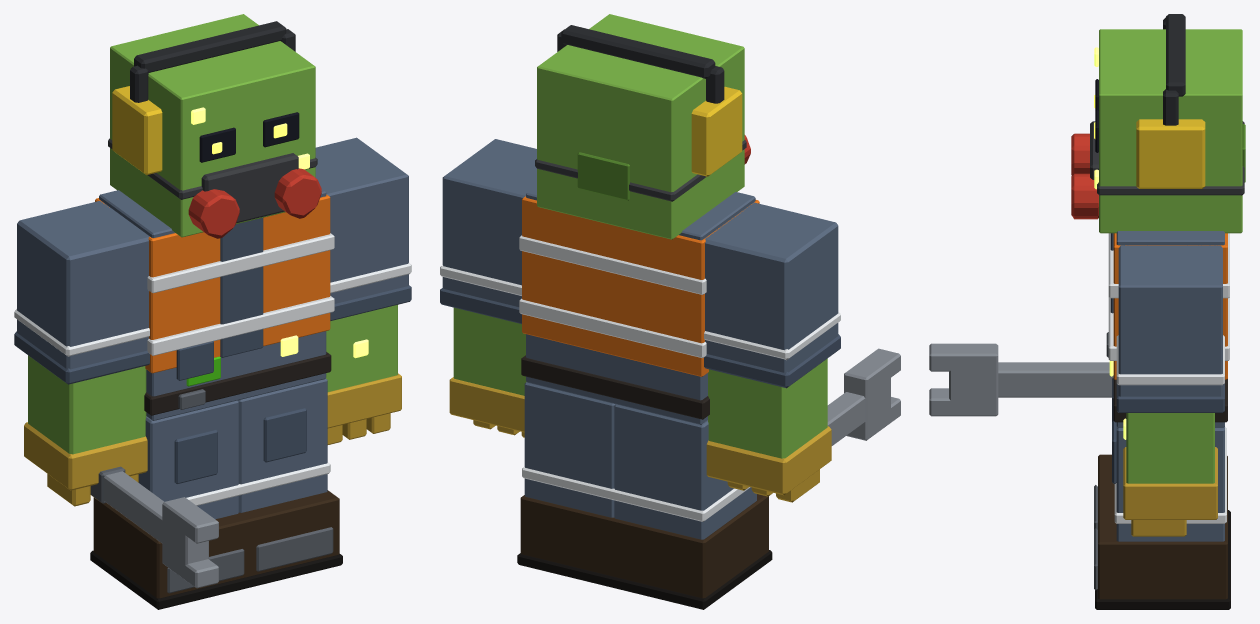
Rendered from myw_zombieworker.glb.
3 renders of one model, left to right at view 1: azimuth 30°, elevation 25°; view 2: azimuth 150°, elevation 25°; view 3: azimuth 270°, elevation 25°, orthographic.
Visible parts, largest first — view 1: RightArm, Torso, Head, LeftArm, RightLeg, LeftLeg, Hat, Wrench; view 2: RightArm, Torso, Head, RightLeg, LeftArm, LeftLeg, Hat, Wrench; view 3: LeftArm, Head, LeftLeg, Hat, Wrench, Torso, RightLeg.
Boxes of the visible parts, box(x1,y1,x2,y2) form: RightArm: box(14, 201, 149, 506); Torso: box(95, 189, 334, 420); Head: box(110, 14, 315, 237); LeftArm: box(315, 137, 411, 444); RightLeg: box(90, 400, 253, 609); LeftLeg: box(237, 378, 342, 586); Hat: box(108, 21, 321, 238); Wrench: box(90, 466, 218, 588); RightArm: box(704, 202, 840, 502); Torso: box(519, 186, 759, 424); Head: box(537, 14, 744, 239); RightLeg: box(608, 404, 772, 609); LeftArm: box(440, 139, 536, 437); LeftLeg: box(517, 382, 615, 587); Hat: box(535, 25, 750, 201); Wrench: box(827, 348, 900, 445); LeftArm: box(1116, 245, 1224, 536); Head: box(1094, 29, 1245, 233); LeftLeg: box(1094, 421, 1230, 609); Hat: box(1071, 14, 1244, 219); Wrench: box(929, 343, 1113, 416); Torso: box(1106, 231, 1229, 427); RightLeg: box(1094, 377, 1230, 554).
Bounding box in the file's own units: 4.04 × 5.79 × 3.21.
